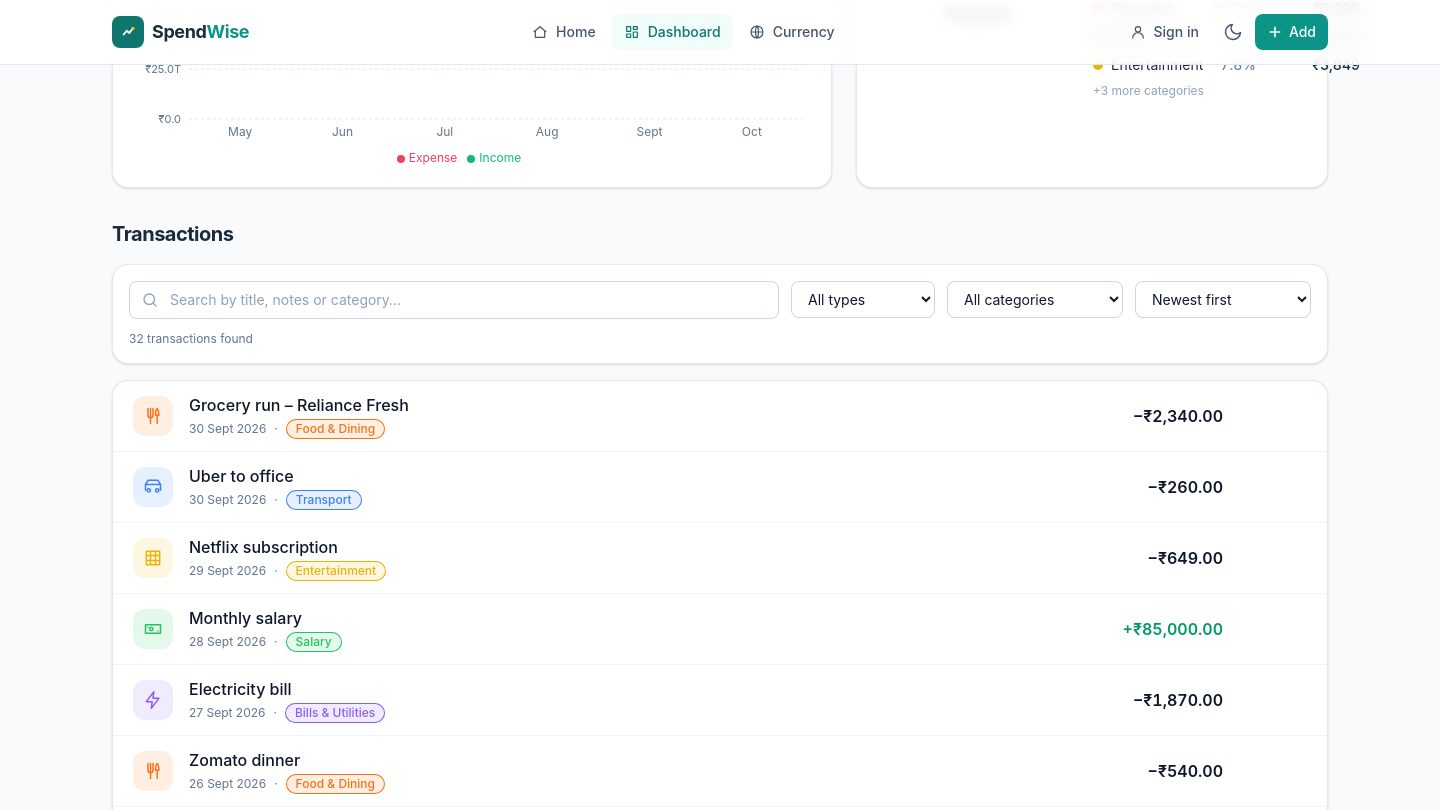
Test case: App navigation › opens a transaction detail view from the dashboard list
(page scrolled)
Click the link "Grocery run – Reliance Fresh".
click(299, 405)  # box [189,395,409,415]
(page scrolled)
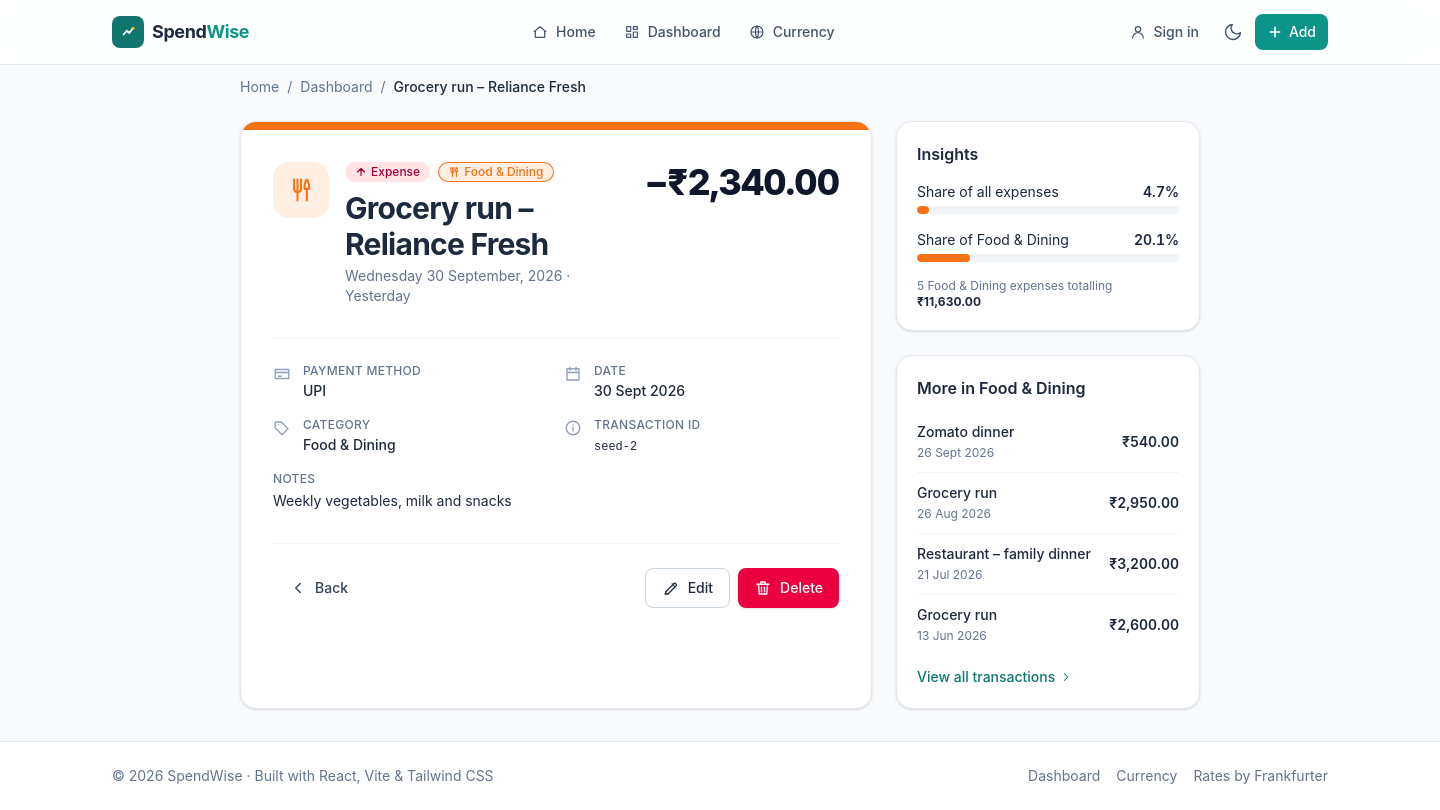
Now the heading "Grocery run – Reliance Fresh" is shown, box [345,190,548,262]
Now the navigation bar named "Breadcrumb" is shown, box [240,78,586,95]
Now the text "Weekly vegetables, milk and snacks" is shown, box [273,492,512,509]
